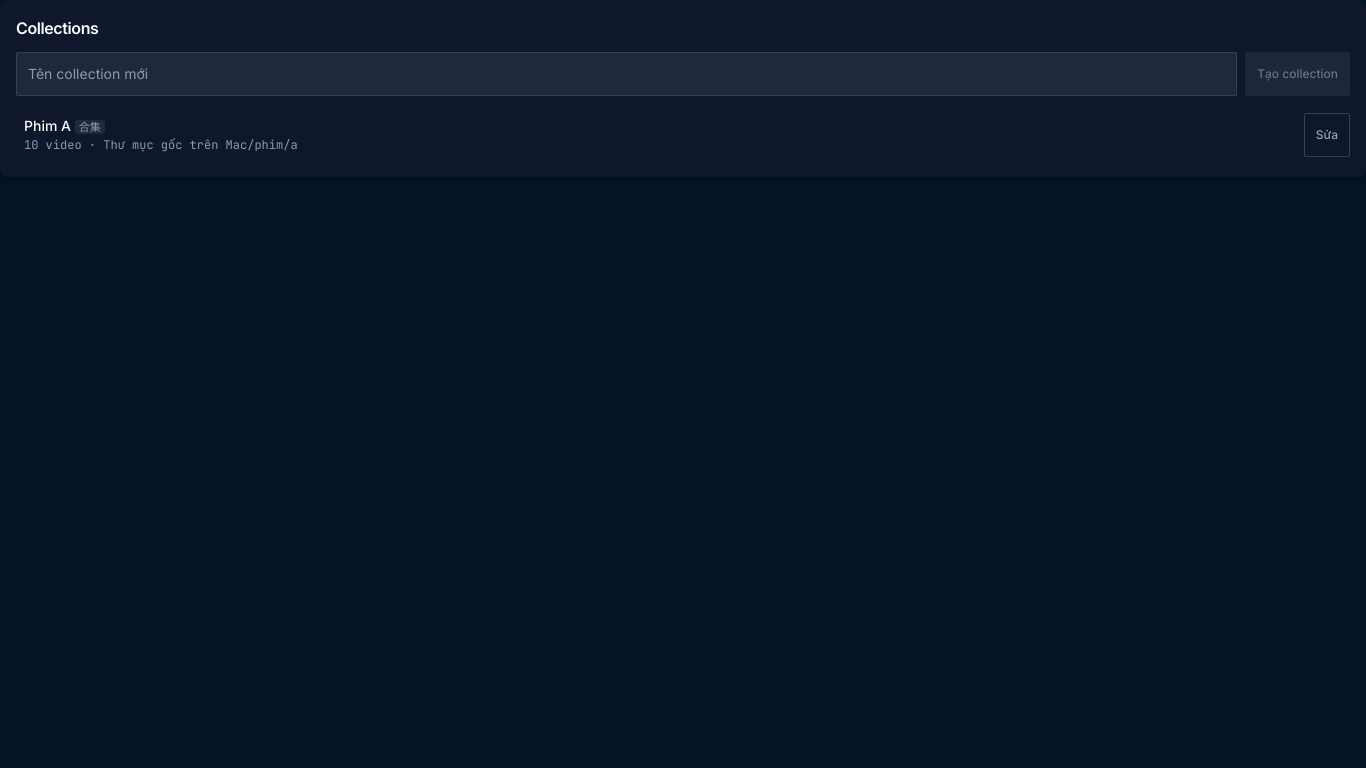
Test: CollectionsPanel settings › shows the save folder under the Mac root prefix
Click the button with aria-label "Sửa Phim A". click: [1327, 134]
box: x1=1304 y1=112 x2=1350 y2=156
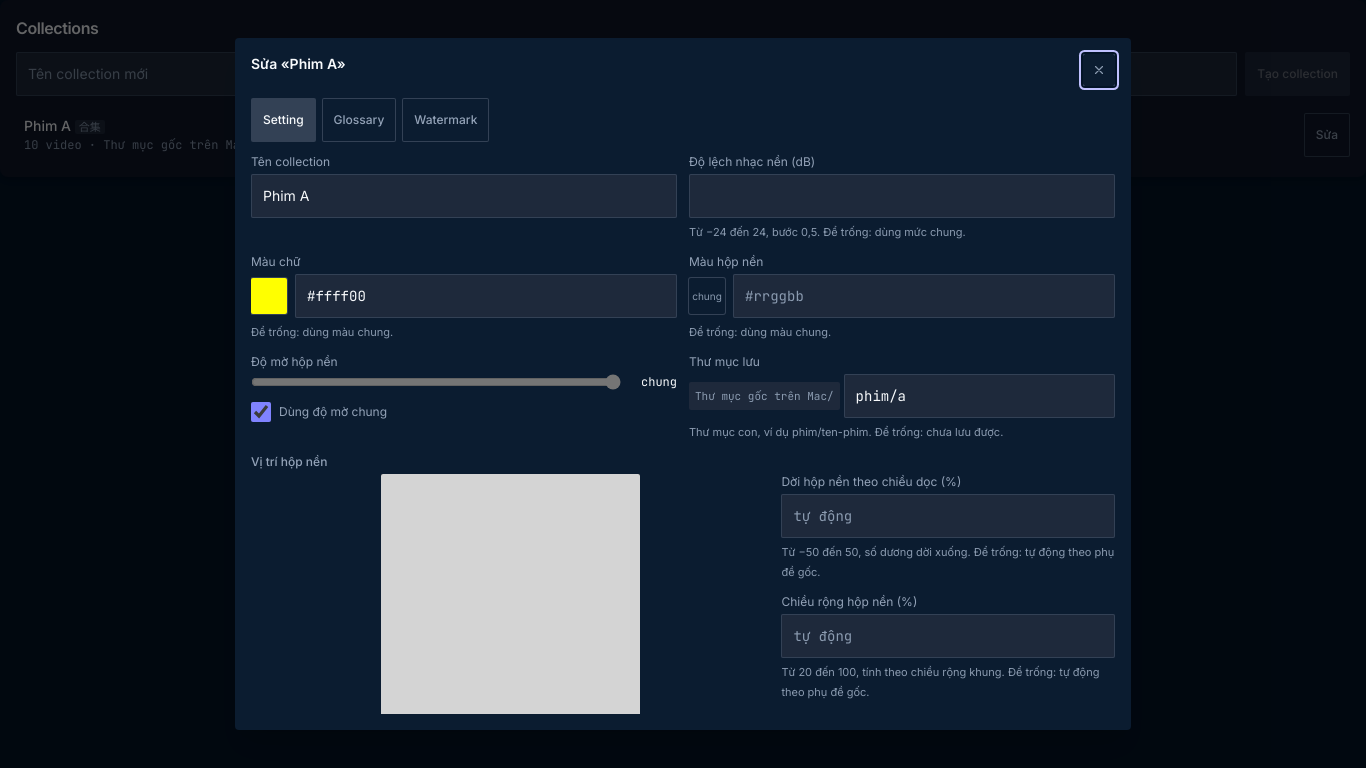
Now the text with test id "save-root-prefix" reads "Thư mục gốc trên Mac/", box x1=689 y1=382 x2=840 y2=410
Now the field labelled "Thư mục lưu" holds "phim/a", box x1=844 y1=374 x2=1115 y2=418
